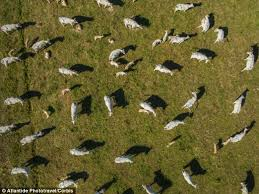sheep: (181, 168, 201, 189), (9, 162, 31, 181), (100, 93, 118, 116), (19, 130, 43, 146), (190, 50, 212, 65), (121, 17, 144, 31), (182, 90, 198, 110), (30, 39, 52, 53), (57, 15, 79, 29), (228, 128, 248, 143), (172, 2, 195, 15), (169, 31, 190, 45), (153, 63, 174, 77), (108, 47, 126, 63), (232, 94, 244, 117), (162, 120, 185, 132), (57, 67, 80, 79), (242, 51, 255, 72), (1, 122, 18, 138), (1, 54, 19, 69), (139, 102, 158, 116), (198, 14, 211, 34), (56, 178, 79, 189), (1, 21, 19, 35), (68, 101, 78, 126), (213, 26, 225, 44), (138, 183, 157, 194), (114, 155, 134, 165), (69, 146, 89, 156), (2, 97, 22, 107), (159, 27, 170, 42), (238, 181, 249, 194), (123, 59, 136, 70), (151, 34, 161, 48), (95, 1, 112, 9), (165, 140, 178, 150), (41, 109, 53, 118), (92, 34, 106, 41), (210, 142, 218, 154), (115, 70, 126, 77), (61, 88, 71, 95)
